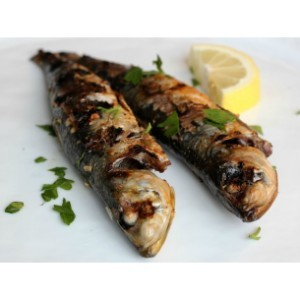sardine_brain food: (72, 96, 262, 238)
